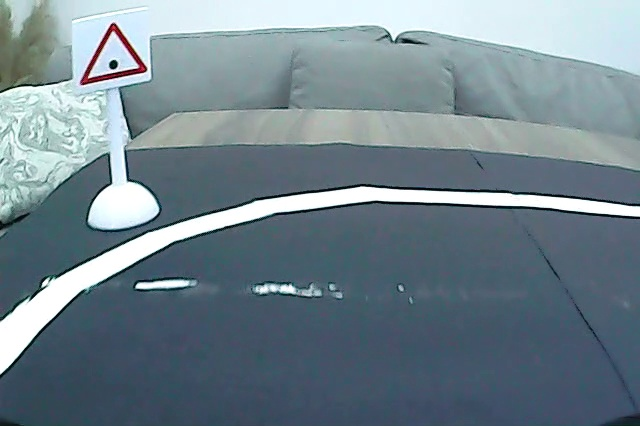green light: (78, 18, 150, 87)
